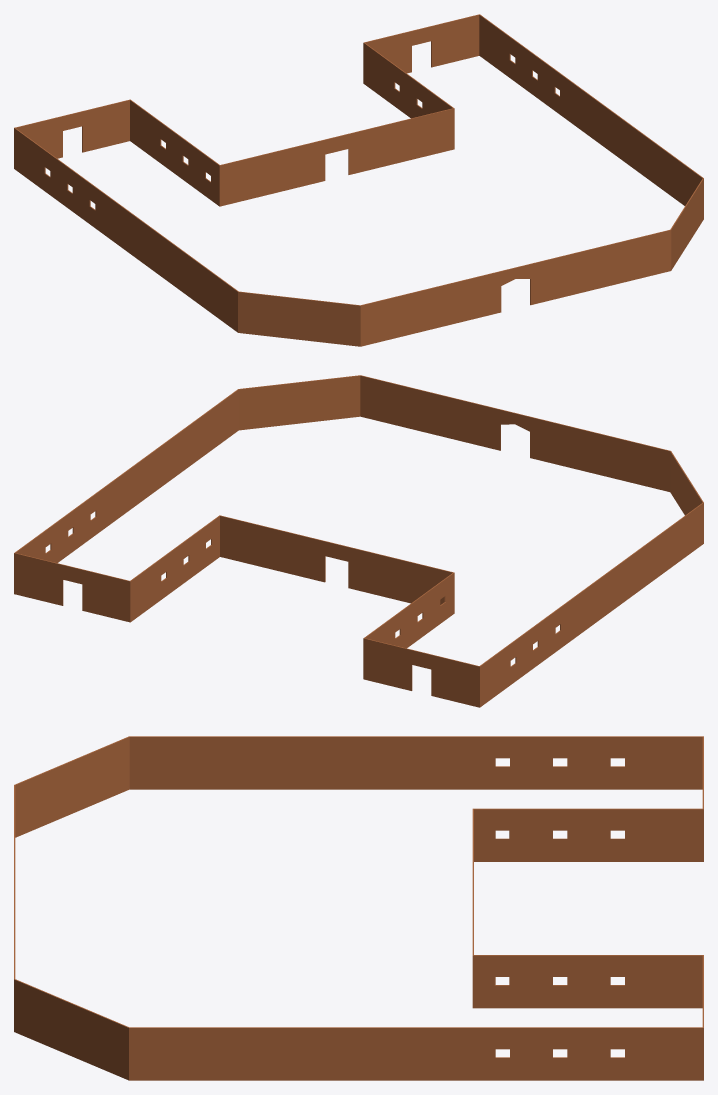
The model's file is ParedExteriorPB.fbx.
3 views of the same model, one above another, from view 1: azimuth 30°, elevation 25°; view 2: azimuth 150°, elevation 25°; view 3: azimuth 270°, elevation 25° (orthographic). The views are drawn at different scales.
Visible parts, largest first — view 1: ParedExteriorPB; view 2: ParedExteriorPB; view 3: ParedExteriorPB.
Boxes of the visible parts, x1,y1,x2,y2 form: ParedExteriorPB: (14, 14, 703, 346); ParedExteriorPB: (14, 375, 703, 707); ParedExteriorPB: (14, 736, 703, 1080).
Bounding box in the file's own units: 4800 × 404 × 4800.
